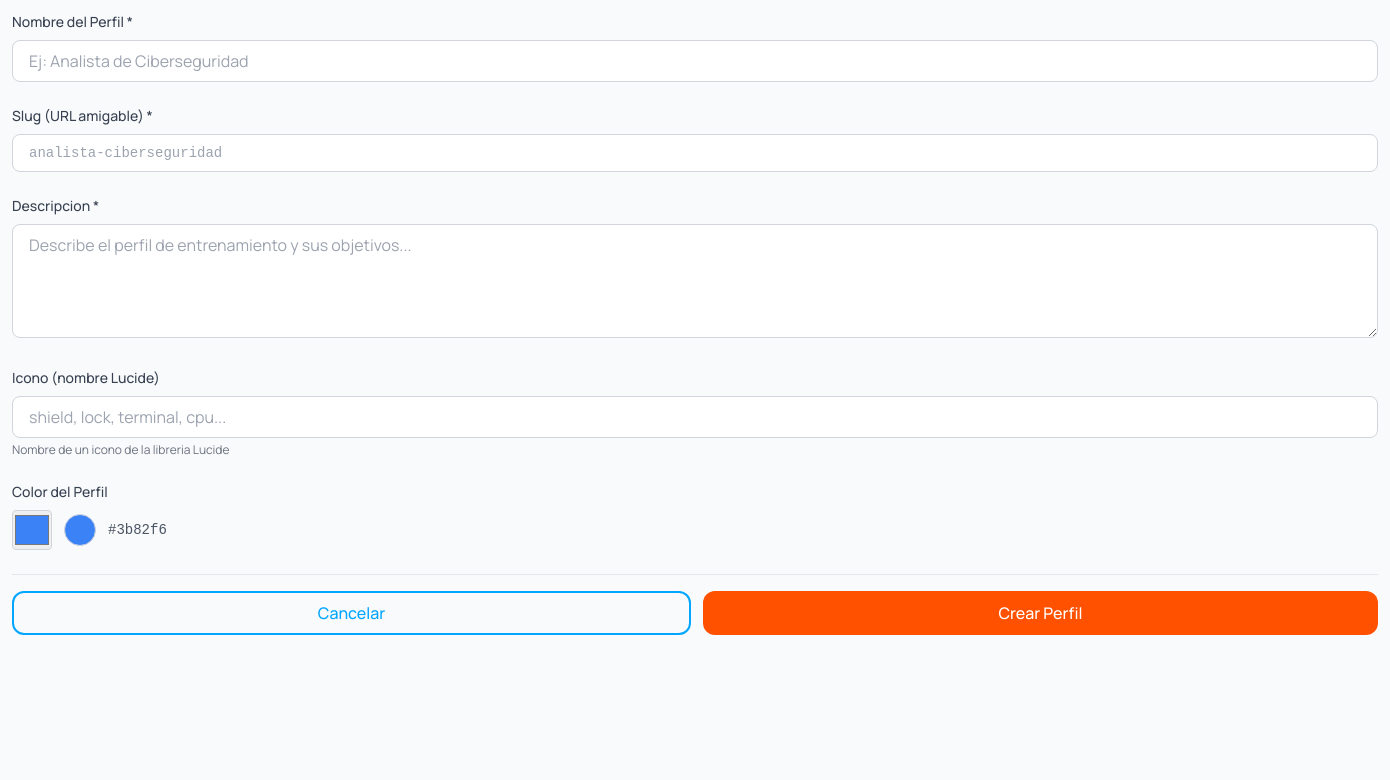
Test: TrainingProfileForm › muestra errores de validacion si los campos requeridos estan vacios
The image size is (1390, 780).
Click the button "Crear Perfil": (1040, 613) [703,591,1378,635]
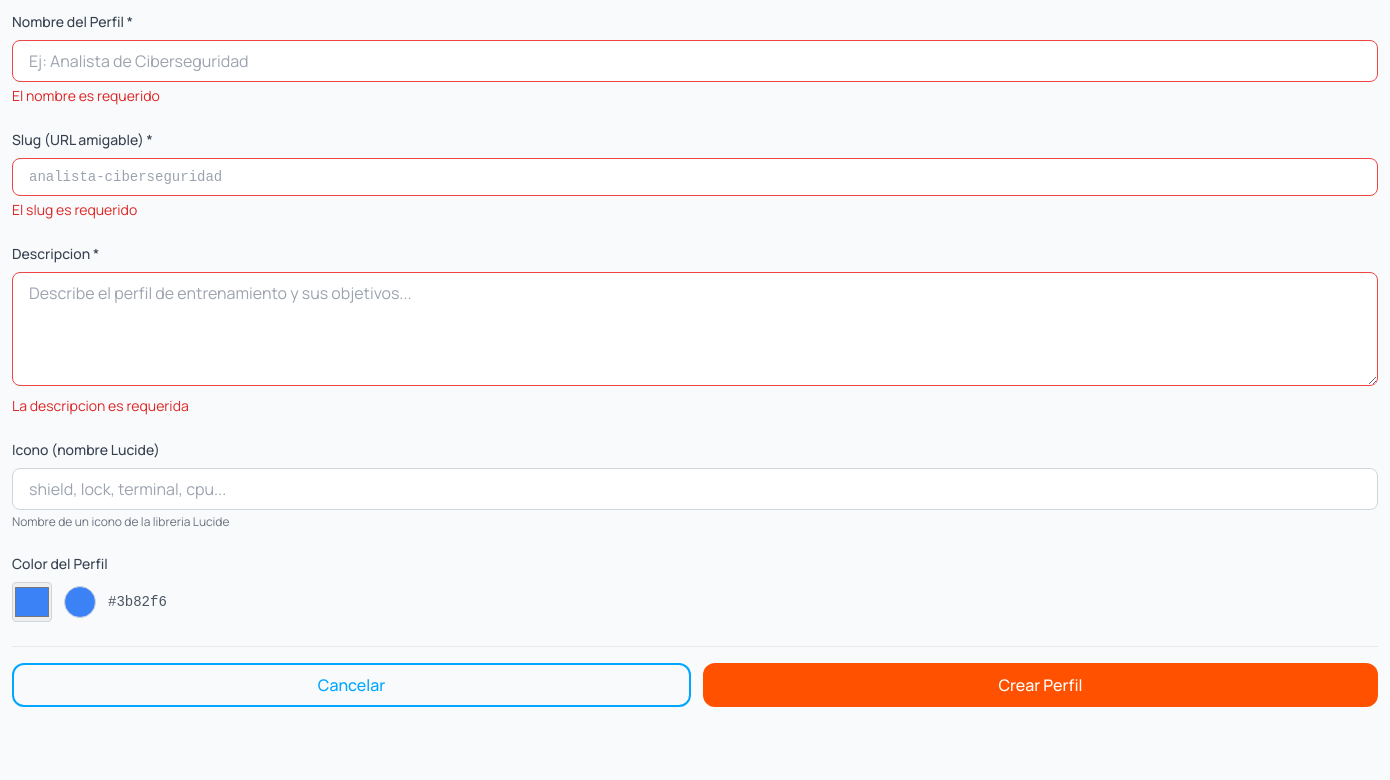
Now the text "El nombre es requerido" is shown, box [12,86,160,105]
